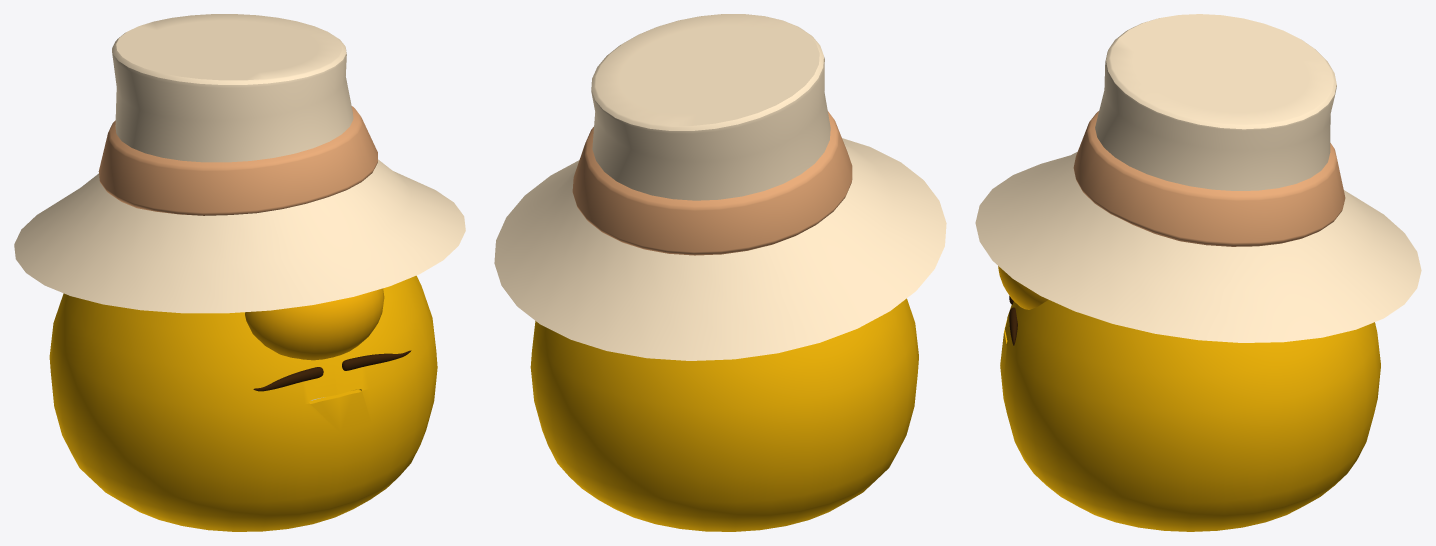
3 renders of one model, left to right at view 1: azimuth 30°, elevation 25°; view 2: azimuth 150°, elevation 25°; view 3: azimuth 270°, elevation 25°, orthographic. The views are drawn at different scales.
Parts seen in each view (by area): view 1: Mr. Lunt Hat_5, Mr. Lunt Body.001_12, Mr. Lunt Nose_14, Cube.007_11, Cube.002_9; view 2: Mr. Lunt Hat_5, Mr. Lunt Body.001_12; view 3: Mr. Lunt Hat_5, Mr. Lunt Body.001_12, Mr. Lunt Nose_14.
Boxes of the visible parts, bbox=[...] form: Mr. Lunt Hat_5: bbox=[14, 14, 465, 313]; Mr. Lunt Body.001_12: bbox=[49, 275, 437, 531]; Mr. Lunt Nose_14: bbox=[245, 288, 384, 360]; Cube.007_11: bbox=[253, 367, 323, 391]; Cube.002_9: bbox=[342, 350, 411, 370]; Mr. Lunt Hat_5: bbox=[494, 14, 946, 360]; Mr. Lunt Body.001_12: bbox=[530, 298, 918, 531]; Mr. Lunt Hat_5: bbox=[975, 14, 1421, 342]; Mr. Lunt Body.001_12: bbox=[1000, 299, 1380, 531]; Mr. Lunt Nose_14: bbox=[998, 266, 1047, 309].
Size of what is drawn, in the model's own units: 4.74 by 5.17 by 4.78.
